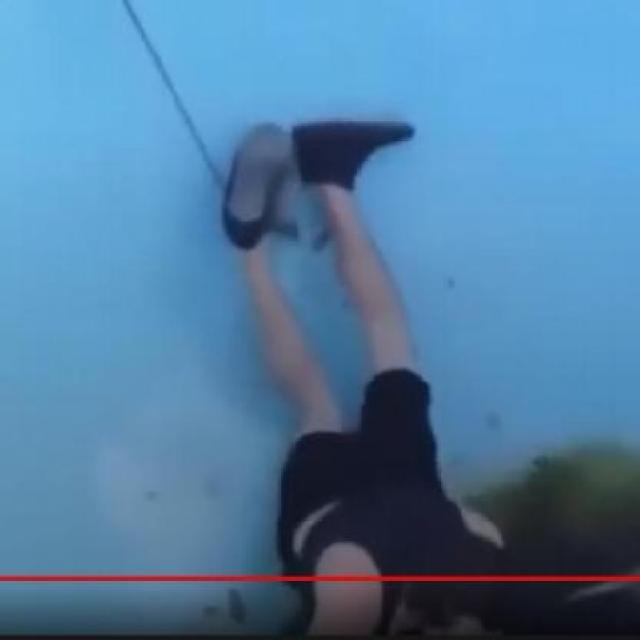fall: (218, 96, 534, 639)
